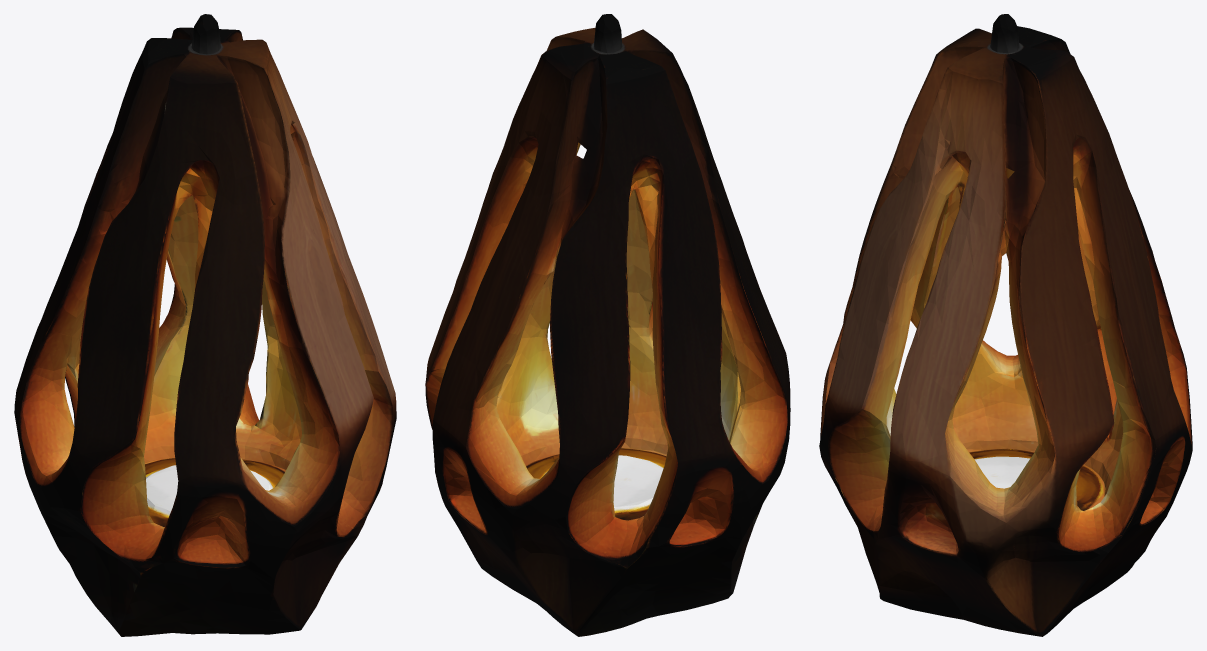
Rendered from wooden-lamp-futuristic.jpeg.glb.
The picture shows the model from 3 angles, left to right: view 1: azimuth 30°, elevation 25°; view 2: azimuth 150°, elevation 25°; view 3: azimuth 270°, elevation 25°; orthographic projection.
Parts seen in each view (by area): view 1: world; view 2: world; view 3: world.
Part boxes in pixels (x1,y1,x2,y2): world: [14, 14, 396, 636]; world: [425, 14, 790, 636]; world: [819, 14, 1192, 636].
Bounding box in the file's own units: 0.5904 × 1 × 0.5888.
1 material, 1 textured.
